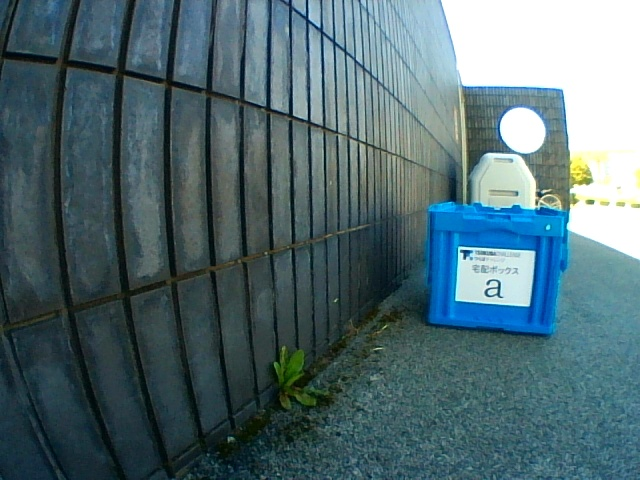blue_box: (425, 202, 569, 336)
tag_a: (461, 250, 530, 299)
